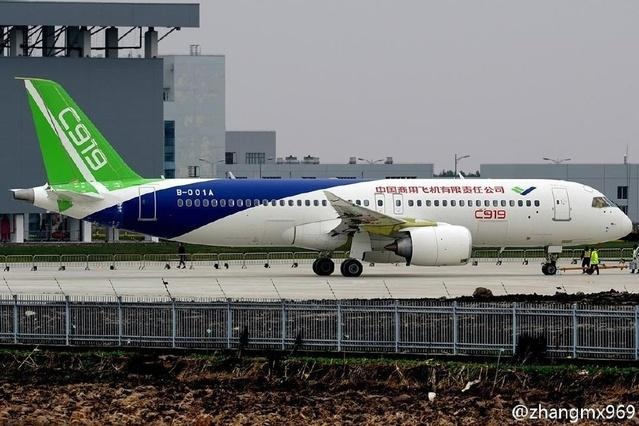airplane: (5, 72, 633, 277)
